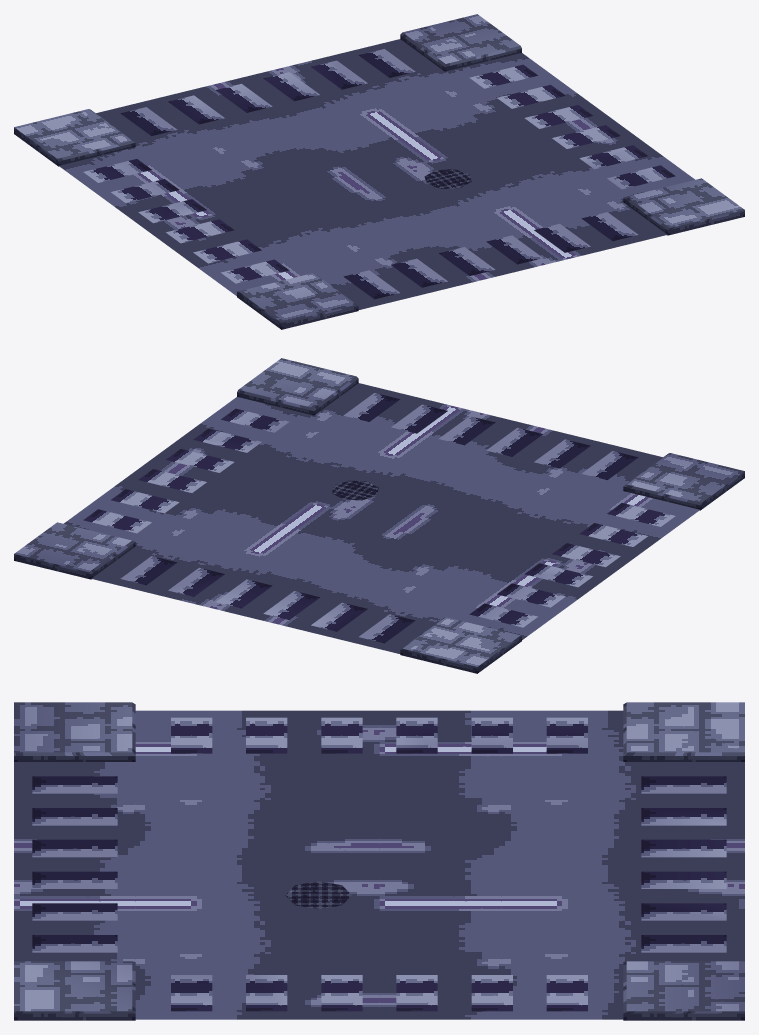
Rendered from cystreet.crossing.glb.
The picture shows the model from 3 angles, top to bottom: view 1: azimuth 30°, elevation 25°; view 2: azimuth 150°, elevation 25°; view 3: azimuth 270°, elevation 25°; orthographic projection. The views are drawn at different scales.
Parts seen in each view (by area): view 1: kit_shell_road, kit_card_paint, kit_walks; view 2: kit_shell_road, kit_card_paint, kit_walks; view 3: kit_shell_road, kit_card_paint, kit_walks.
Boxes of the visible parts, x1,y1,x2,y2 form: kit_shell_road: (59,39,694,309); kit_card_paint: (83,49,675,299); kit_walks: (14,14,744,329); kit_shell_road: (64,383,699,653); kit_card_paint: (83,393,675,643); kit_walks: (14,358,744,673); kit_shell_road: (14,710,744,1019); kit_card_paint: (32,717,726,1011); kit_walks: (14,702,744,1020).
Bounding box in the file's own units: 12 × 0.17 × 12.
5 materials, 5 textured.
